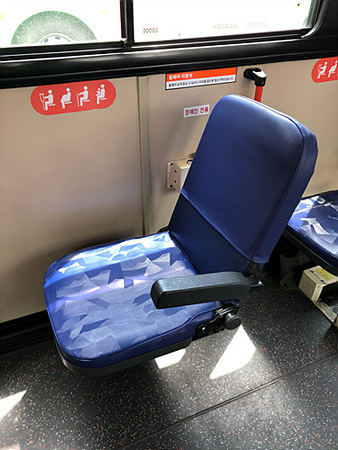seat: (42, 95, 318, 374)
